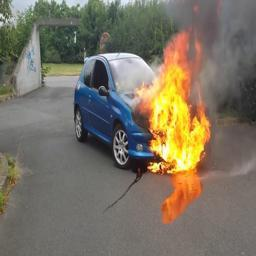fire: (138, 31, 214, 173)
